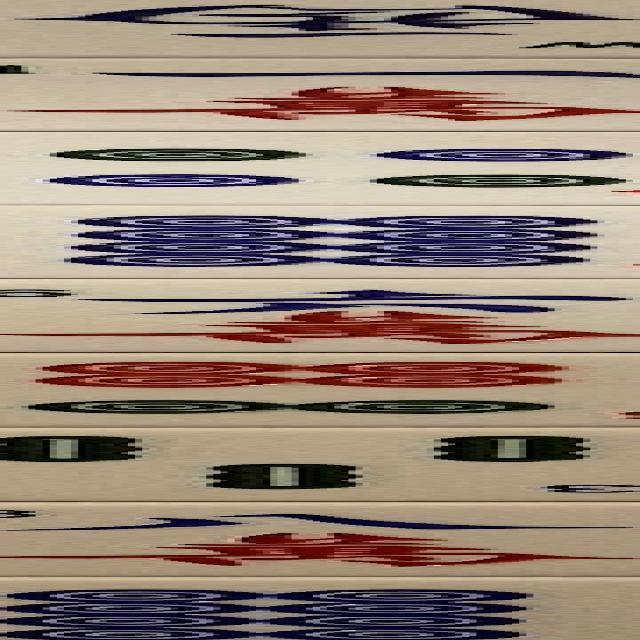hww: (0, 0, 640, 57)
sb3: (0, 427, 640, 499)
sc1: (0, 59, 640, 131)
sc6: (0, 279, 640, 352)
sc8: (0, 501, 640, 576)
sd4: (0, 132, 640, 206)
sd6: (0, 354, 640, 428)
sd8: (0, 206, 640, 279), (0, 577, 640, 640)
